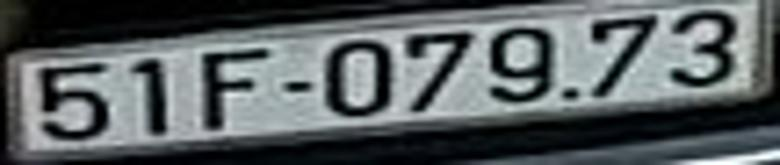-: (281, 82, 311, 93)
.: (563, 88, 576, 99)
0: (323, 42, 391, 114)
1: (135, 57, 173, 134)
3: (670, 12, 736, 86)
5: (41, 64, 110, 141)
7: (589, 16, 656, 97), (406, 32, 469, 116)
9: (488, 28, 554, 103)
F: (201, 52, 267, 130)
